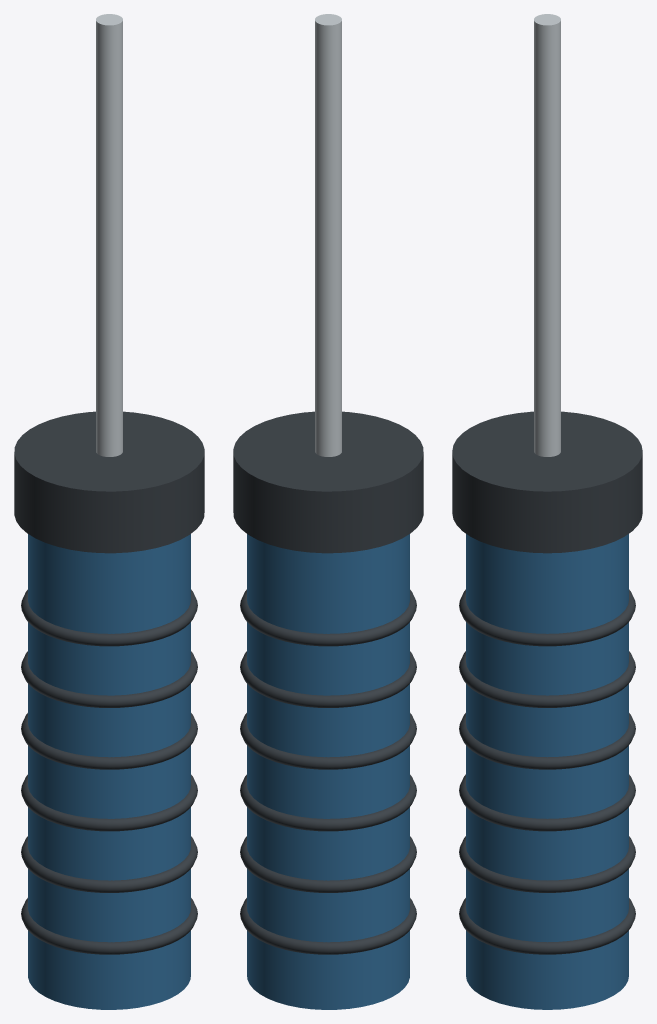
The model's file is fencing-club-and-tournament-piste-tip-screwdriver-1bf26d75__31236.glb.
3 renders of one model, left to right at view 1: azimuth 30°, elevation 25°; view 2: azimuth 150°, elevation 25°; view 3: azimuth 270°, elevation 25°, orthographic.
Visible parts, largest first — view 1: tip-screwdriver; view 2: tip-screwdriver; view 3: tip-screwdriver.
Boxes of the visible parts, bbox=[...] form: tip-screwdriver: bbox=[14, 14, 204, 1009]; tip-screwdriver: bbox=[233, 14, 423, 1009]; tip-screwdriver: bbox=[452, 14, 642, 1009].
Bounding box in the file's own units: 0.028 × 0.155 × 0.028.
